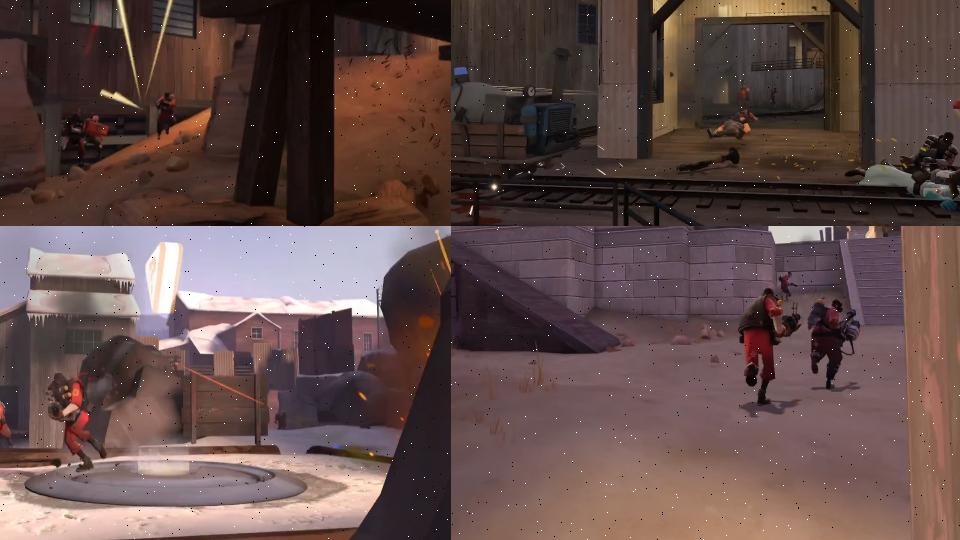Enemy: (740, 287, 802, 410), (843, 156, 960, 214), (45, 373, 109, 470), (805, 299, 861, 383), (64, 114, 86, 166), (705, 117, 752, 141), (84, 116, 109, 160), (155, 91, 176, 141), (0, 396, 15, 447), (735, 79, 752, 122), (779, 270, 798, 298), (768, 86, 780, 111)
